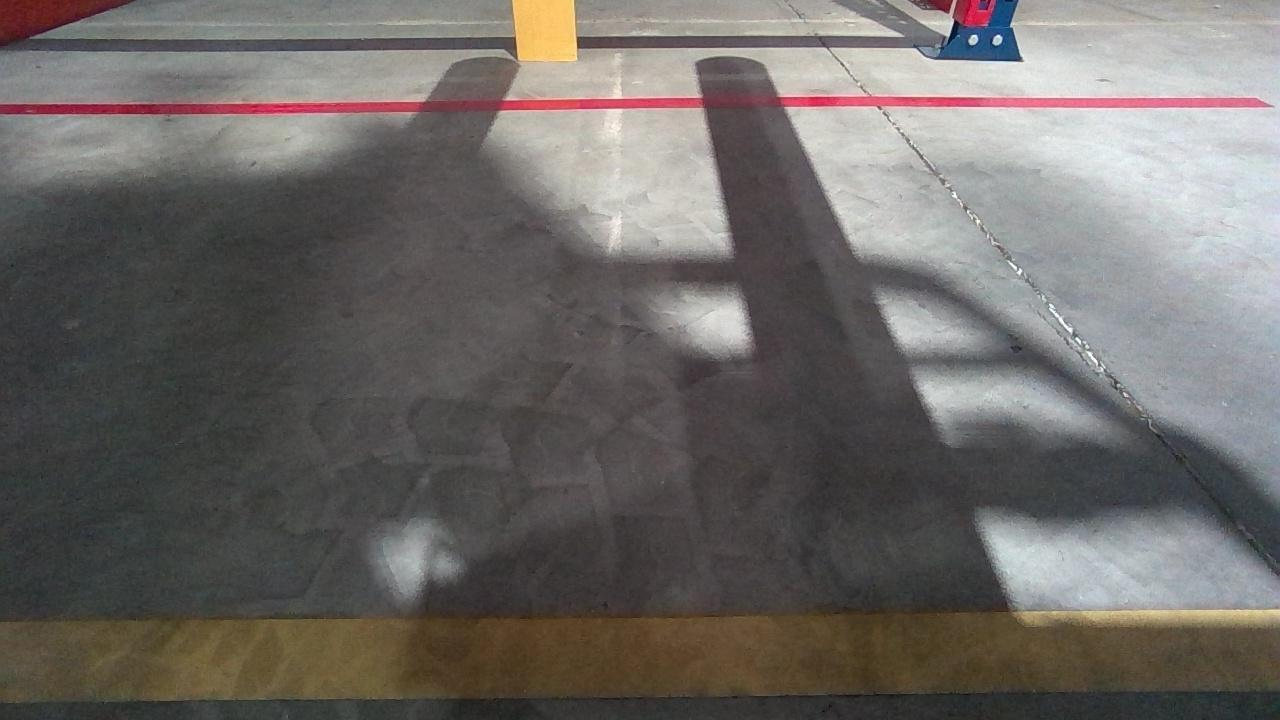orange_strip: (512, 1, 577, 61)
red_line: (19, 91, 1270, 115)
yellow_line: (0, 609, 1280, 699)
